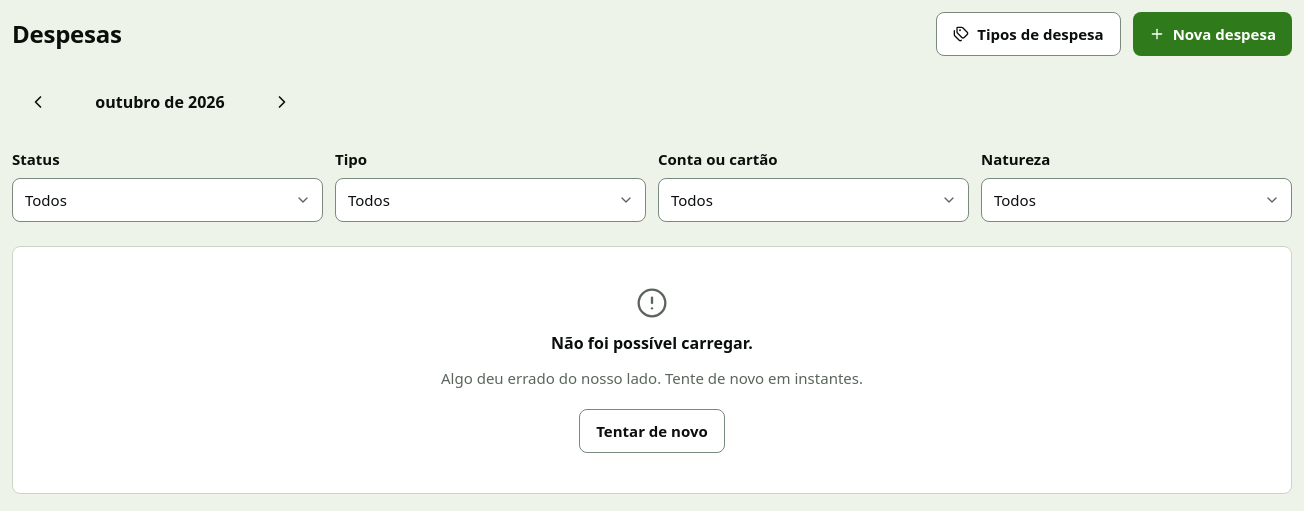
Test: ExpenseListPage (spec 0012) › loads, fails with the catalogue message and retries
The width and height of the screenshot is (1304, 511).
Expected: the message shows "Não foi possível carregar.", [551, 332, 753, 354]
Click the button "Tentar de novo". click: (652,431)
box: [579, 409, 725, 453]
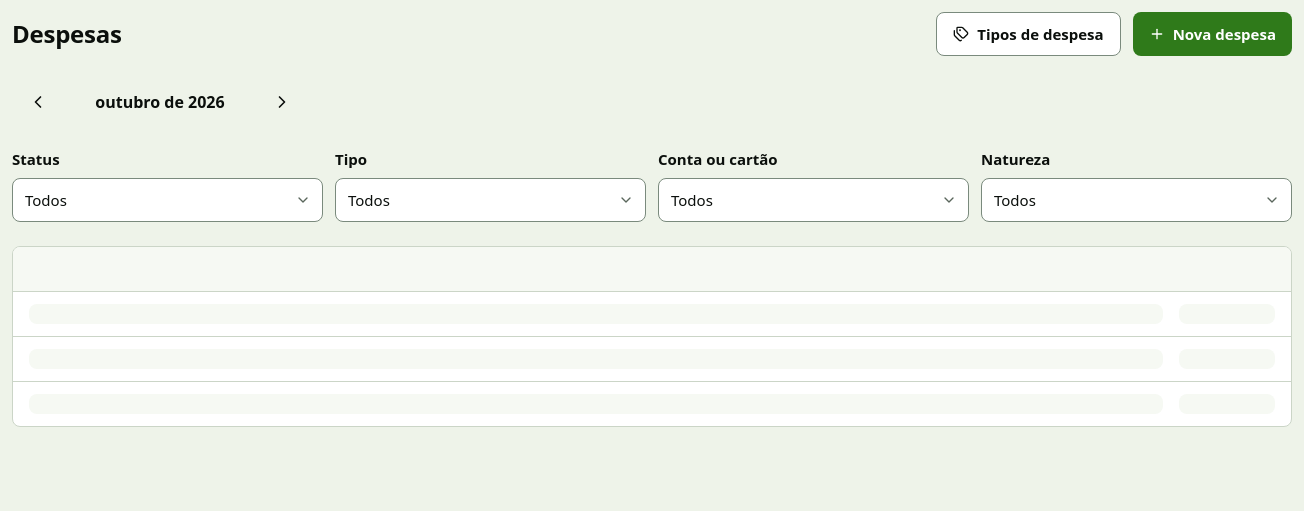
Now the message named "Carregando" is shown, box [12, 246, 1292, 427]
